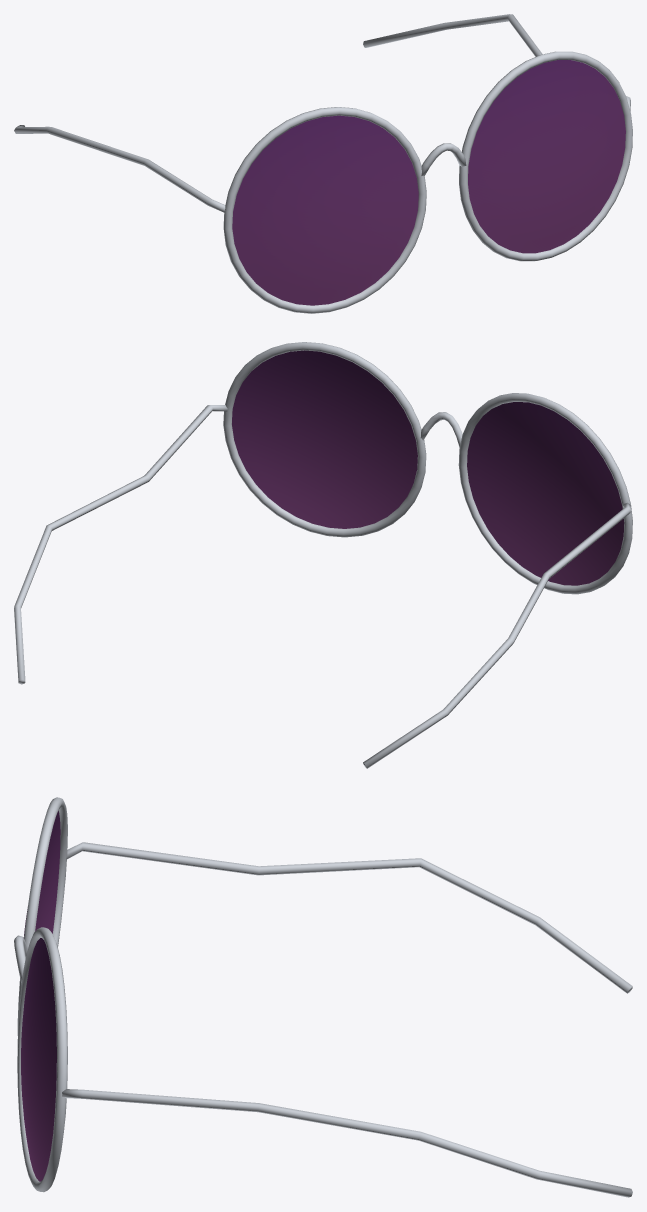
Rendered from rounds.glb.
3 views of the same model, one above another, from view 1: azimuth 30°, elevation 25°; view 2: azimuth 150°, elevation 25°; view 3: azimuth 270°, elevation 25° (orthographic). The views are drawn at different scales.
Visible parts, largest first — view 1: rounds; view 2: rounds; view 3: rounds.
Part boxes in pixels (x1,y1,x2,y2): rounds: (14, 14, 632, 313); rounds: (14, 342, 632, 768); rounds: (14, 797, 632, 1197).
Size of the model in its own units: 0.3812 by 0.154 by 0.3597.
